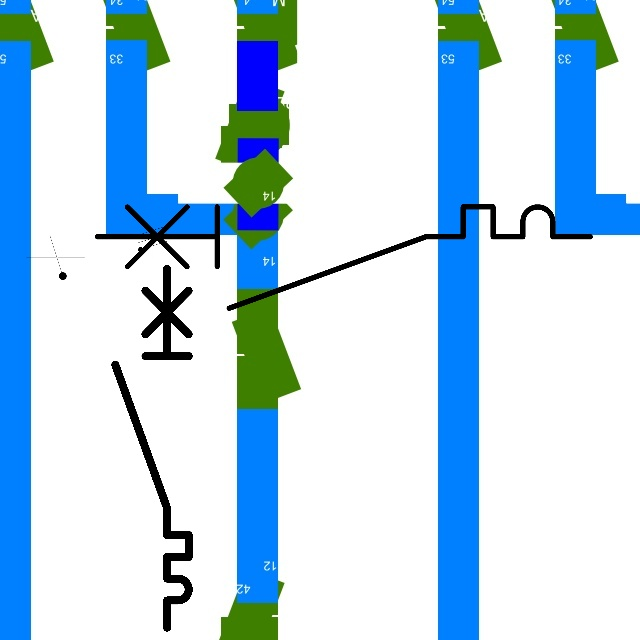interruptor_termomagnetico: (84, 194, 603, 321), (106, 259, 198, 637)
